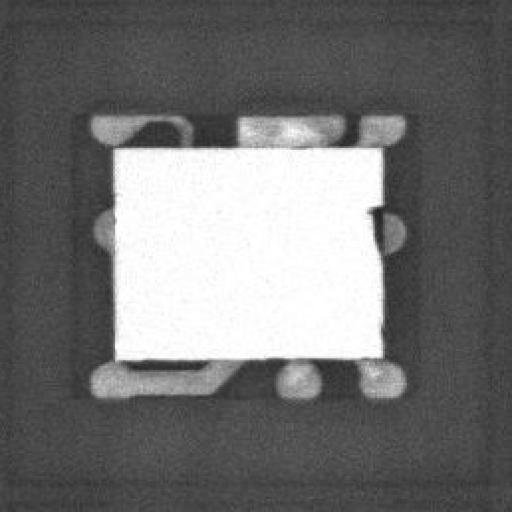DIE_BROKEN: (363, 201, 381, 260)
